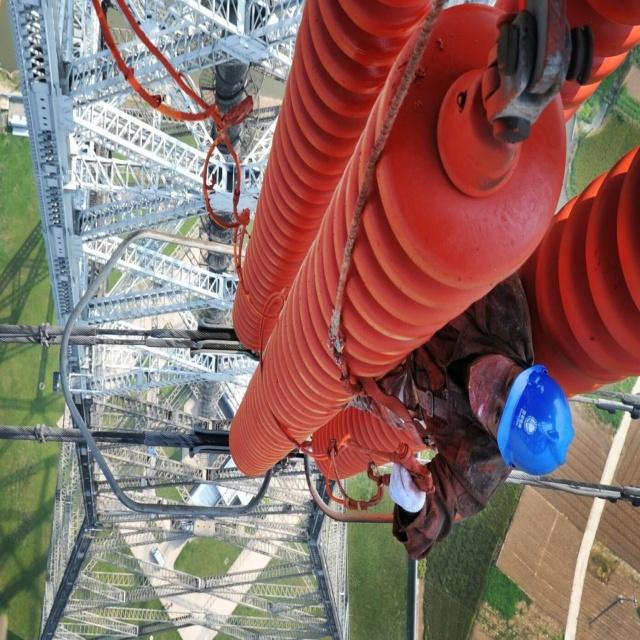helmet: (466, 462, 574, 640)
